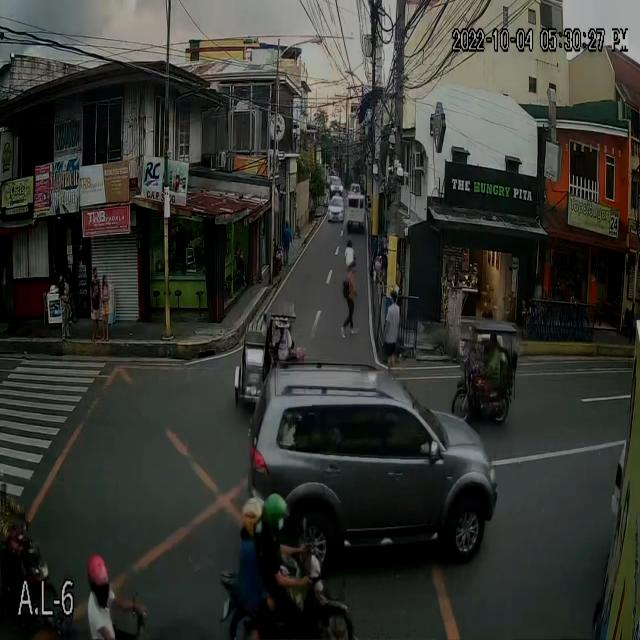Full-Faced: (84, 556, 115, 604), (264, 488, 290, 538)
